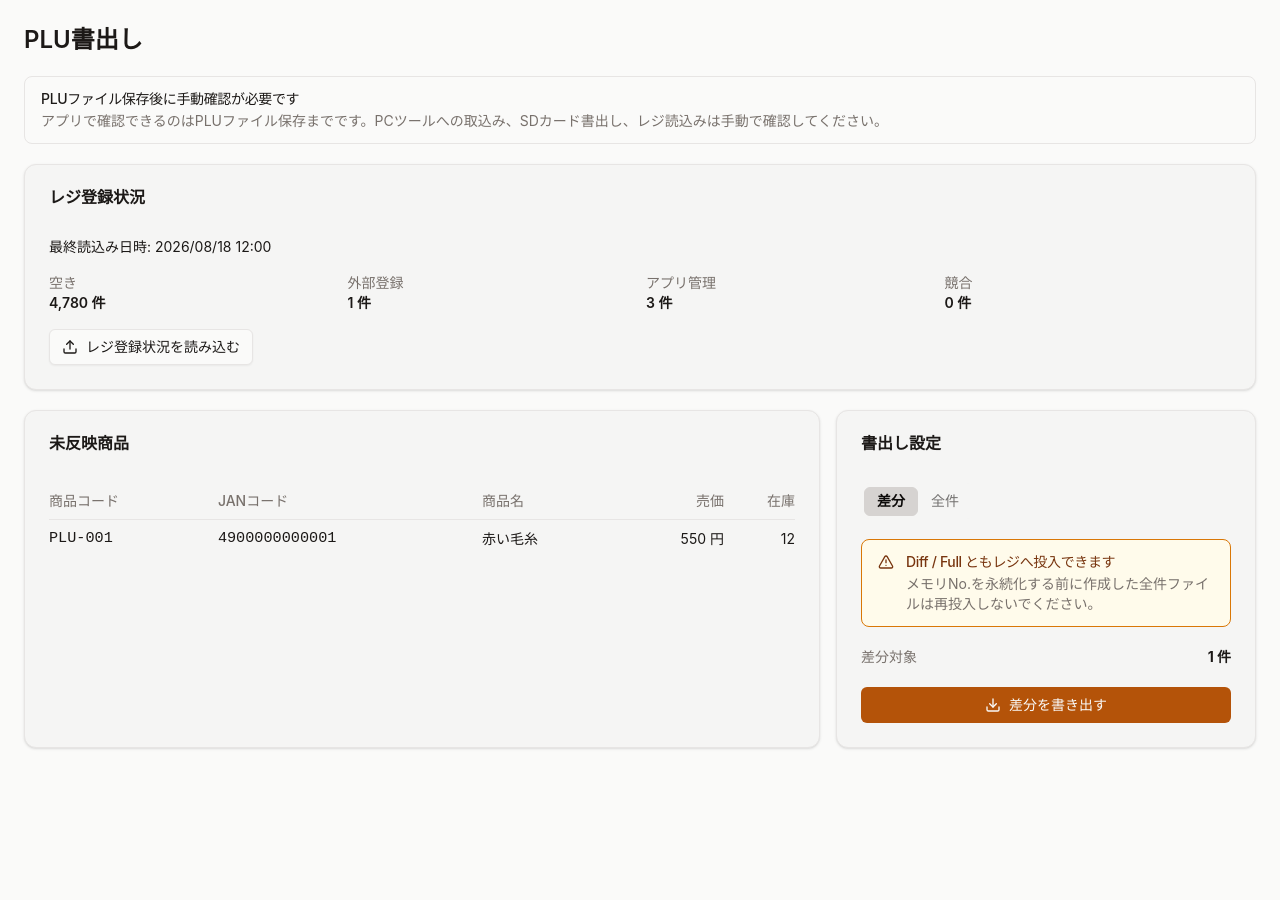
PluExportPage (UI-08 / REQ-402) › REQ-402 does not confirm when the save dialog is cancelled
Click the button "差分を書き出す" at (1046, 705), box [861,687,1231,723]
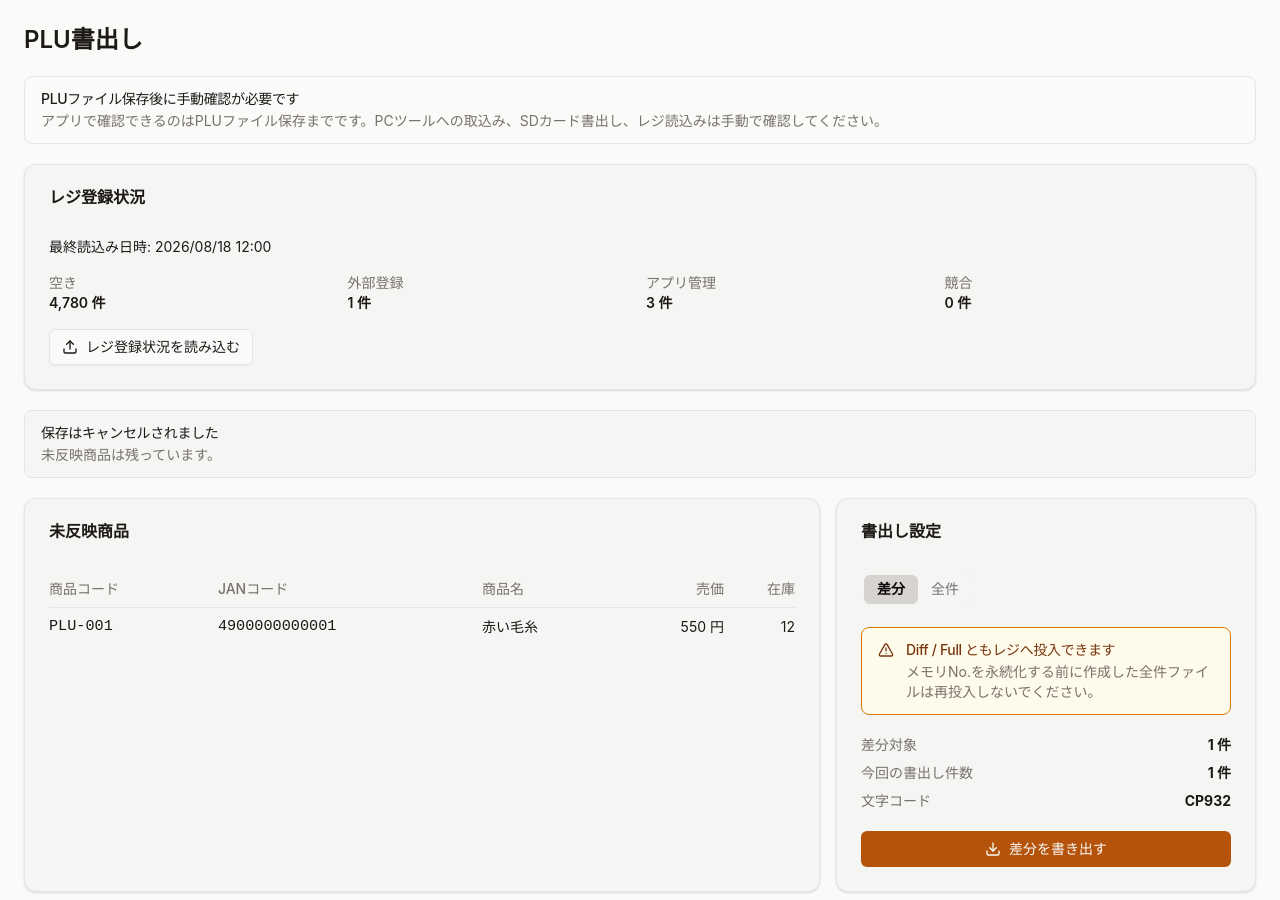
Result: the text "保存はキャンセルされました" is shown at [41,424,218,441]
Result: the text "未反映商品は残っています。" is shown at [41,446,221,463]
